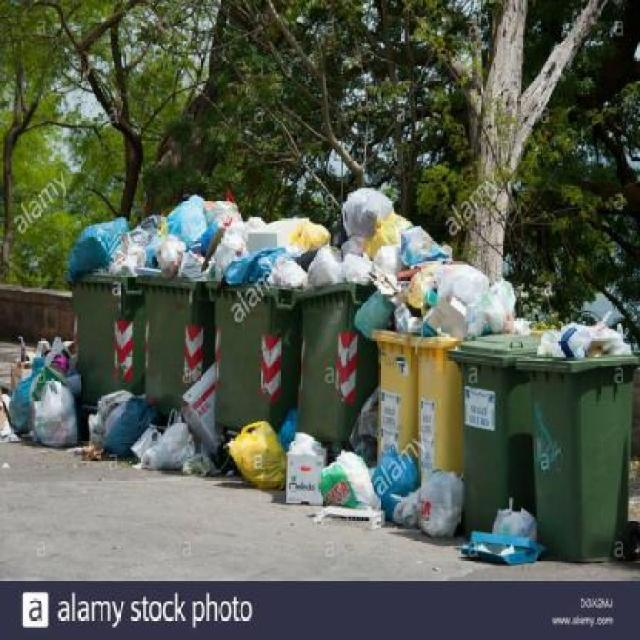garbage: (0, 179, 623, 573)
